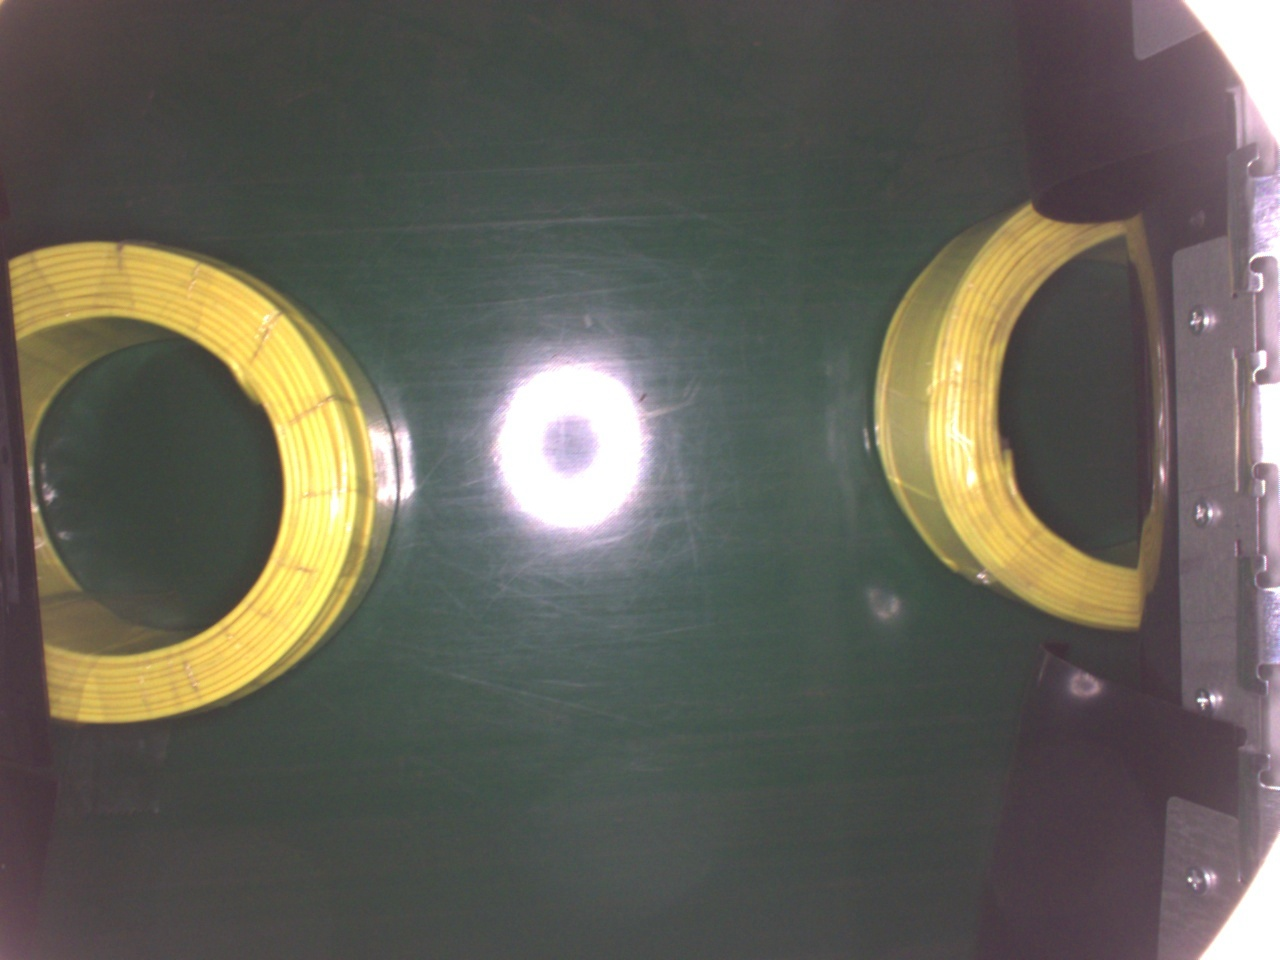yellow: (4, 233, 405, 724), (871, 190, 1149, 638)
